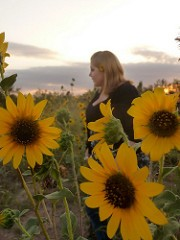flower: (78, 143, 169, 240), (0, 91, 64, 171), (126, 84, 180, 162)
